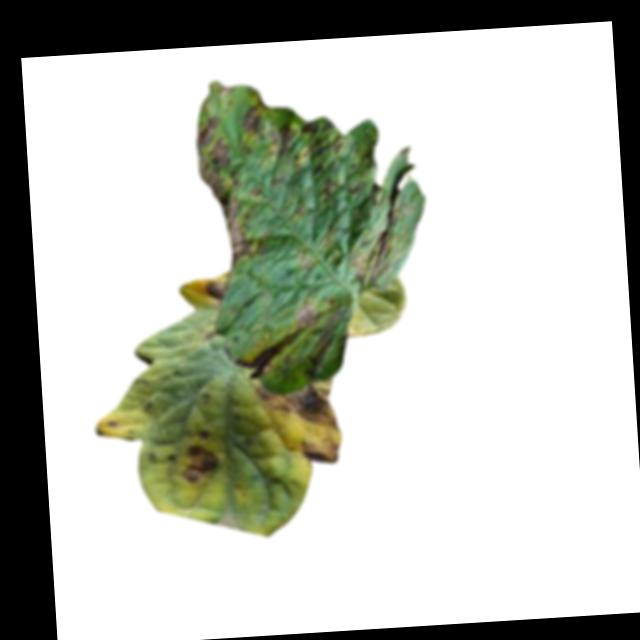Early_blight: (191, 111, 256, 271), (234, 298, 324, 379), (252, 377, 339, 434), (266, 120, 347, 171), (180, 441, 221, 485), (292, 437, 342, 465), (242, 100, 268, 134), (203, 274, 229, 300), (196, 426, 211, 439)
